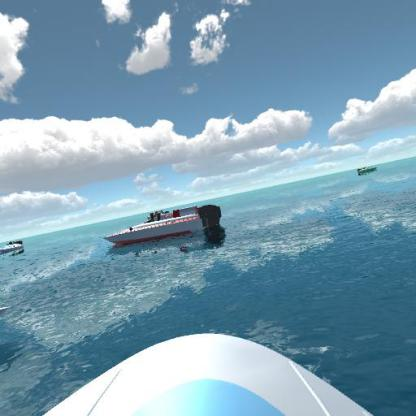usv0: (356, 163, 379, 178)
usv1: (0, 234, 29, 258)
usv3: (98, 201, 227, 255), (140, 202, 168, 219)
